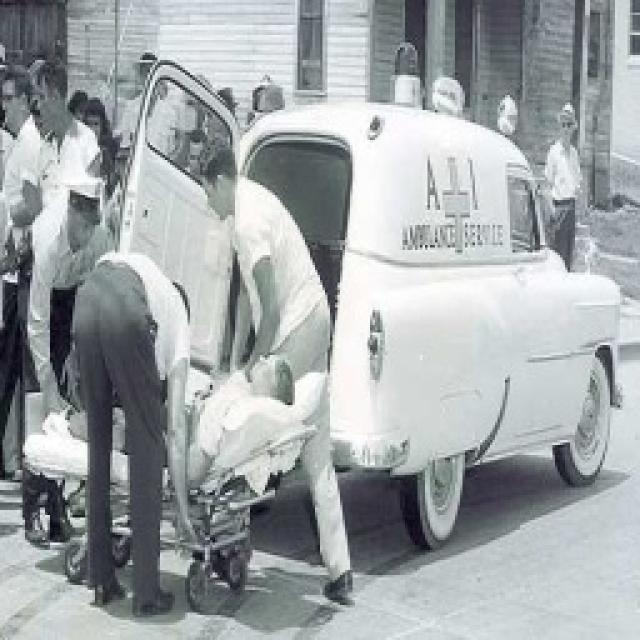emergency-vehicle: (80, 42, 633, 595)
